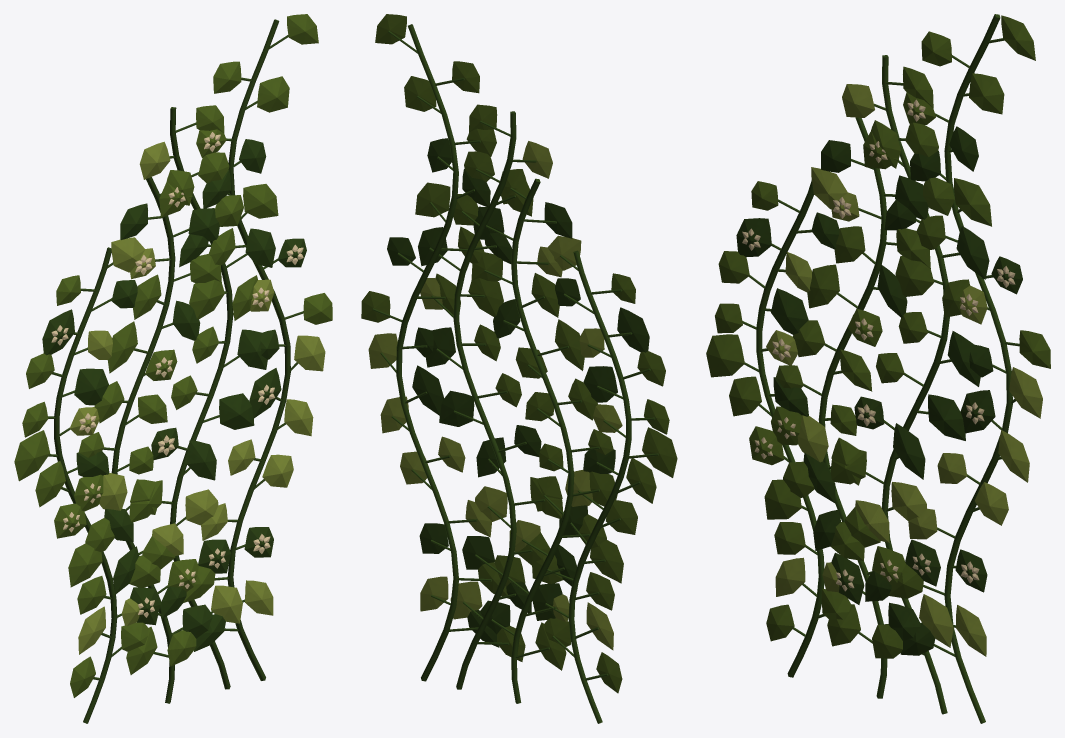
Rendered from PMU_Lierre_Grimpant.glb.
The picture shows the model from 3 angles, left to right: view 1: azimuth 30°, elevation 25°; view 2: azimuth 150°, elevation 25°; view 3: azimuth 330°, elevation 25°; orthographic projection. The views are drawn at different scales.
Visible parts, largest first — view 1: PMU_Lierre_Grimpant; view 2: PMU_Lierre_Grimpant; view 3: PMU_Lierre_Grimpant.
Boxes of the visible parts, x1,y1,x2,y2 form: PMU_Lierre_Grimpant: (14,14,332,723); PMU_Lierre_Grimpant: (361,14,677,723); PMU_Lierre_Grimpant: (706,14,1050,723).
Bounding box in the file's own units: 3.84 × 7.63 × 0.1735.
Materials: 1 (1 with a texture image).
